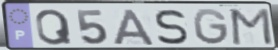5: (75, 9, 110, 46)
A: (112, 8, 157, 46)
G: (191, 7, 231, 47)
M: (229, 7, 275, 47)
Q: (34, 8, 75, 47)
S: (154, 8, 190, 46)
